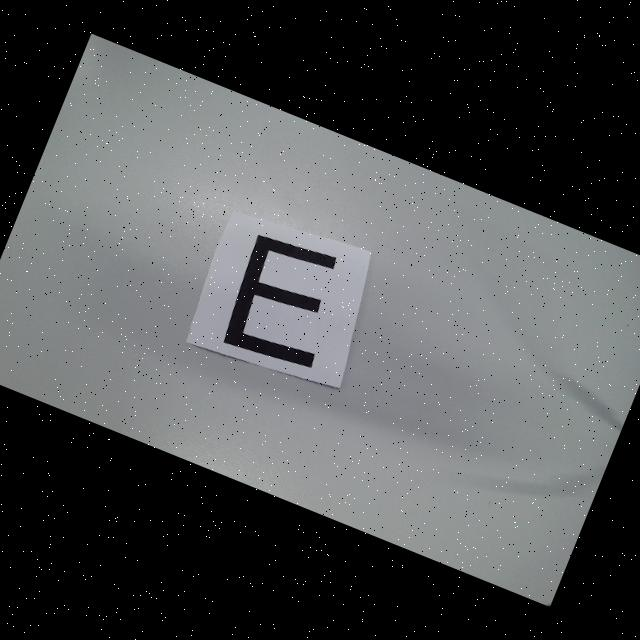FAKE: (215, 226, 354, 376)
